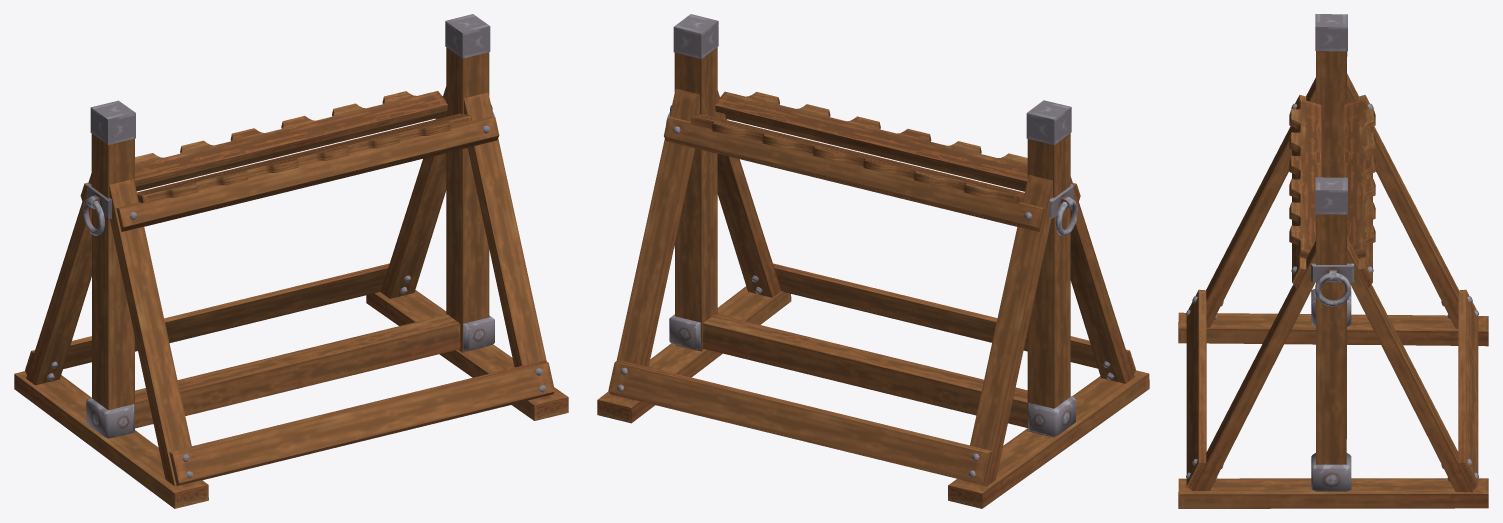
The model's file is weapon_stand.glb.
The picture shows the model from 3 angles, left to right: view 1: azimuth 30°, elevation 25°; view 2: azimuth 150°, elevation 25°; view 3: azimuth 270°, elevation 25°; orthographic projection. The views are drawn at different scales.
Parts seen in each view (by area): view 1: WeaponStand; view 2: WeaponStand; view 3: WeaponStand.
Boxes of the visible parts, left/top/right/bottom form: WeaponStand: left=14, top=14, right=568, bottom=508; WeaponStand: left=597, top=14, right=1149, bottom=508; WeaponStand: left=1178, top=14, right=1488, bottom=508.
Bounding box in the file's own units: 1.39 × 1.11 × 0.9831.
Materials: 2 (2 with a texture image).
